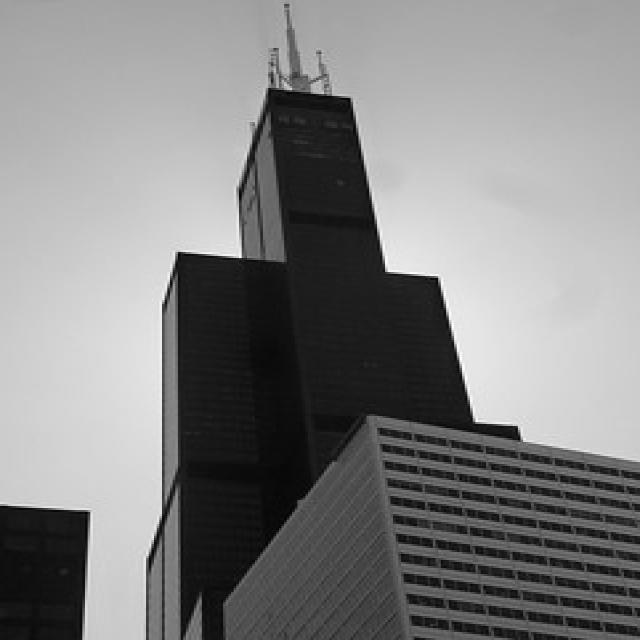building: (150, 78, 522, 640)
